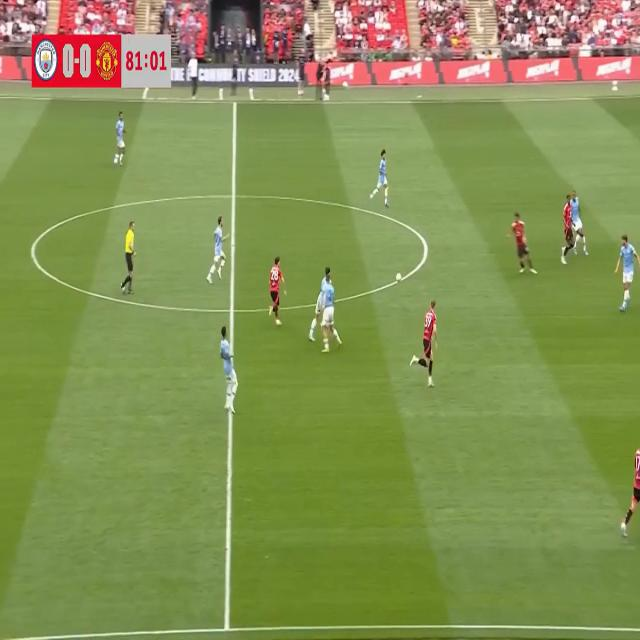ball: (392, 268, 406, 287)
players: (412, 297, 446, 386), (615, 431, 640, 539), (507, 202, 537, 279), (611, 231, 637, 315), (215, 326, 239, 416), (265, 249, 288, 337), (308, 262, 332, 343), (566, 191, 589, 260), (324, 272, 343, 355), (208, 214, 228, 292), (371, 140, 392, 210), (559, 193, 574, 268), (114, 110, 126, 174)
refree: (115, 216, 143, 308)
